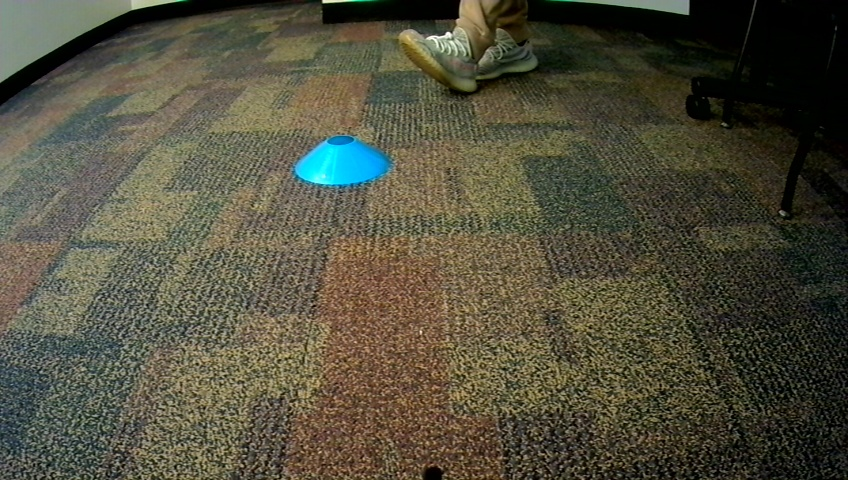cone: (291, 134, 393, 185)
